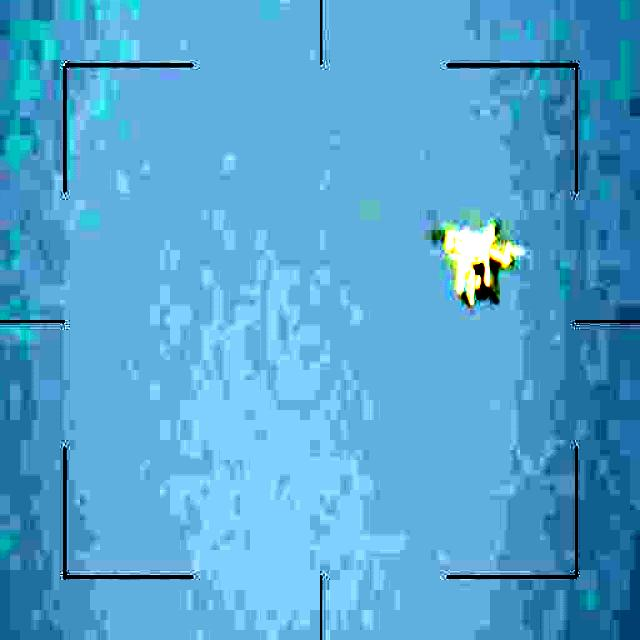bird: (440, 221, 518, 309)
